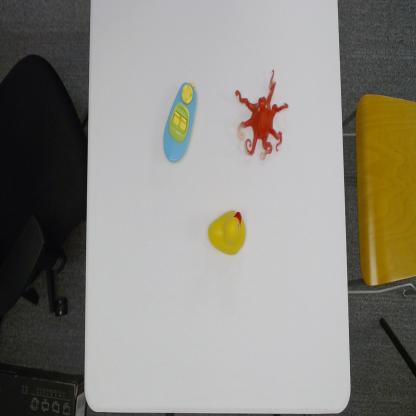Boat: (162, 79, 199, 164)
Duck: (206, 204, 248, 258)
Octopus: (234, 67, 290, 160)
